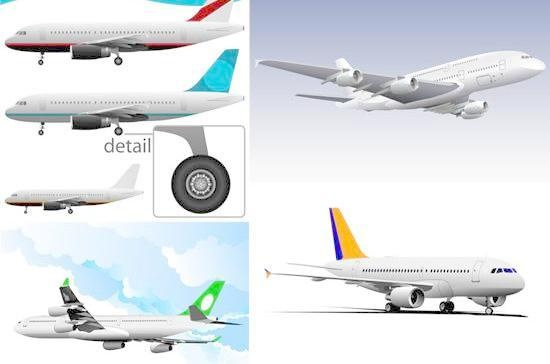airplane: (254, 204, 534, 315), (254, 46, 547, 118), (15, 271, 242, 351), (8, 55, 240, 128), (8, 4, 245, 67), (4, 165, 146, 215)
